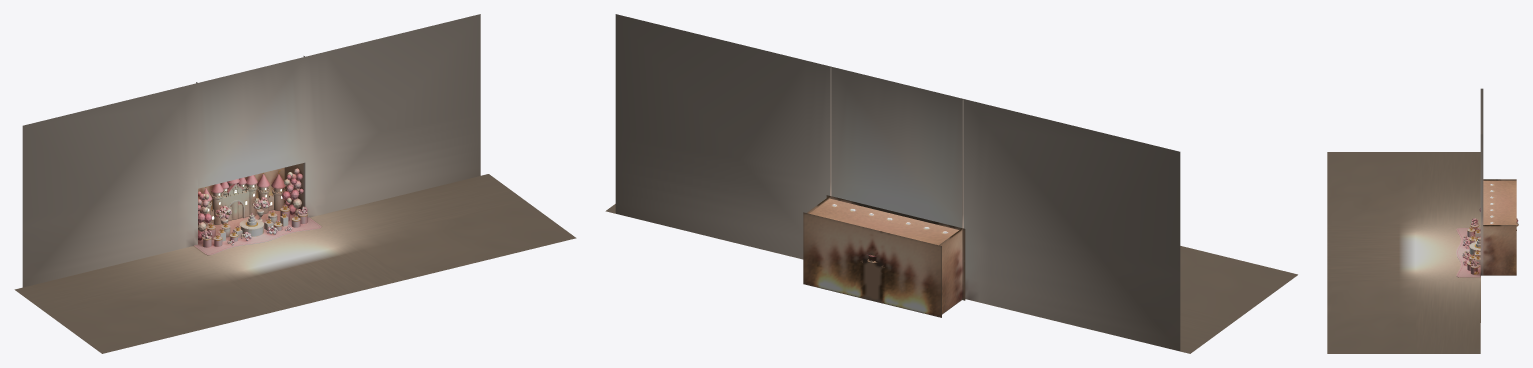
The model's file is hall-high.glb.
3 renders of one model, left to right at view 1: azimuth 30°, elevation 25°; view 2: azimuth 150°, elevation 25°; view 3: azimuth 270°, elevation 25°, orthographic. The views are drawn at different scales.
Parts seen in each view (by area): view 1: W_Room, W_Floor, W_Backdrop, W_Table, W_HallFlowers, W_Balloons_R, W_Balloons_L; view 2: W_Room, W_Floor; view 3: W_Floor, W_Room, W_Table, W_HallFlowers.
Part boxes in pixels (x1,y1,x2,y2): W_Room: [22, 14, 480, 287]; W_Floor: [14, 174, 576, 353]; W_Backdrop: [198, 170, 285, 227]; W_Table: [202, 205, 307, 247]; W_HallFlowers: [201, 197, 307, 245]; W_Balloons_R: [282, 168, 303, 215]; W_Balloons_L: [198, 191, 211, 240]; W_Room: [615, 14, 1180, 351]; W_Floor: [605, 204, 1297, 353]; W_Floor: [1327, 152, 1480, 353]; W_Room: [1456, 88, 1516, 277]; W_Table: [1467, 223, 1480, 274]; W_HallFlowers: [1462, 218, 1478, 266].
Bounding box in the file's own units: 92 × 30.02 × 36.82.
